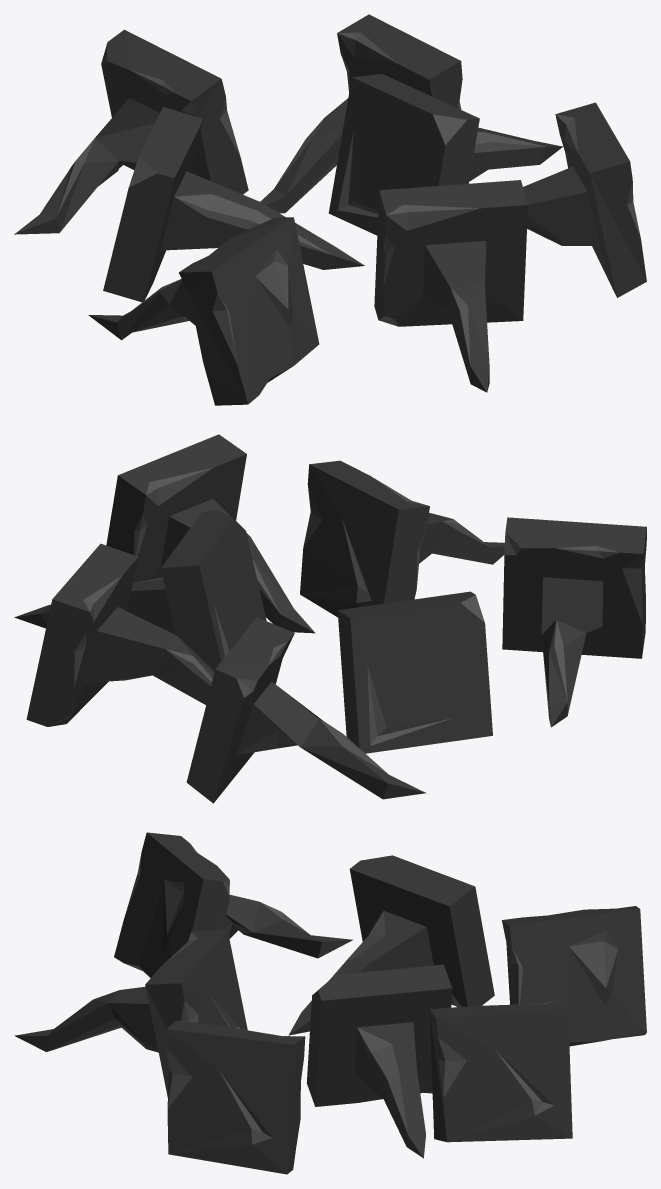
The model's file is mesh_nails.fbx.
The picture shows the model from 3 angles, top to bottom: view 1: azimuth 30°, elevation 25°; view 2: azimuth 150°, elevation 25°; view 3: azimuth 270°, elevation 25°; orthographic projection. The views are drawn at different scales.
Visible parts, largest first — view 1: mesh_nails; view 2: mesh_nails; view 3: mesh_nails.
Boxes of the visible parts, x1,y1,x2,y2 form: mesh_nails: (14, 14, 646, 405); mesh_nails: (14, 434, 646, 803); mesh_nails: (14, 832, 646, 1174).
Size of the model in its own units: 0.219 by 0.0577 by 0.2504.
